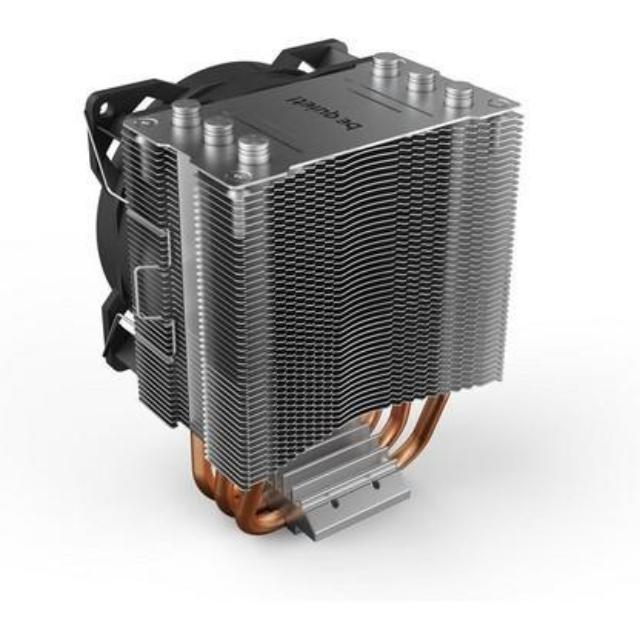CPU_Fan: (56, 33, 542, 527)
